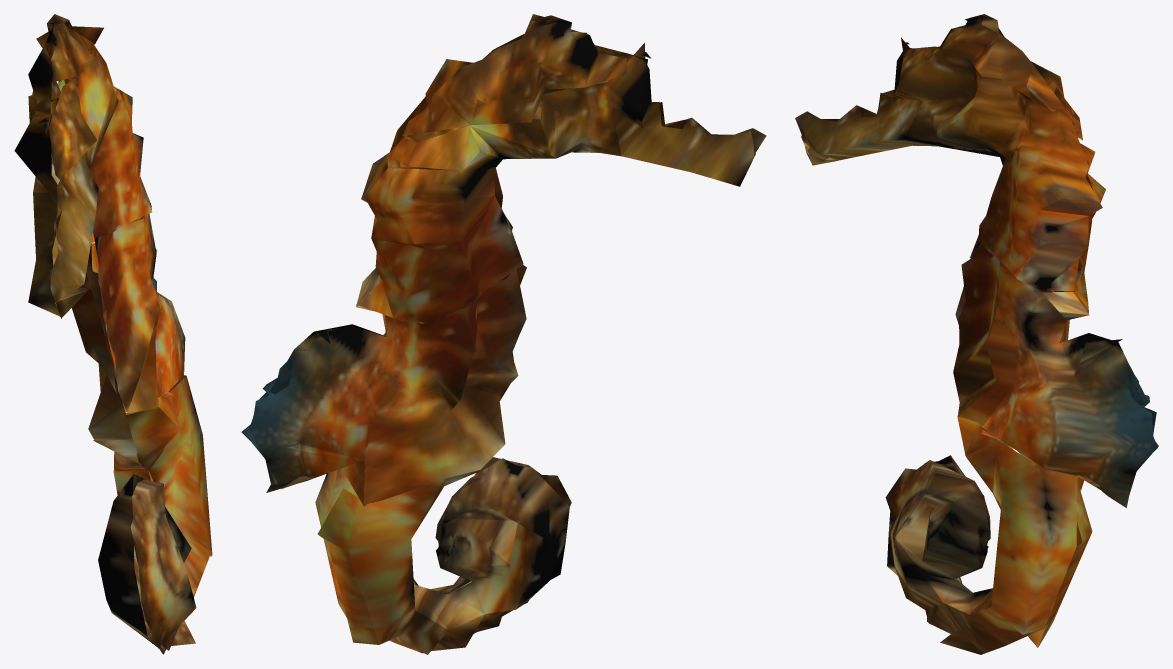
Rendered from seahorse.fbx.
3 renders of one model, left to right at view 1: azimuth 30°, elevation 25°; view 2: azimuth 150°, elevation 25°; view 3: azimuth 270°, elevation 25°, orthographic. The views are drawn at different scales.
Parts seen in each view (by area): view 1: seahorse; view 2: seahorse; view 3: seahorse.
Boxes of the visible parts, left/top/right/bottom form: seahorse: left=14, top=14, right=212, bottom=654; seahorse: left=241, top=14, right=766, bottom=654; seahorse: left=795, top=14, right=1158, bottom=654.
Size of the model in its own units: 31.16 by 62.71 by 35.34.
